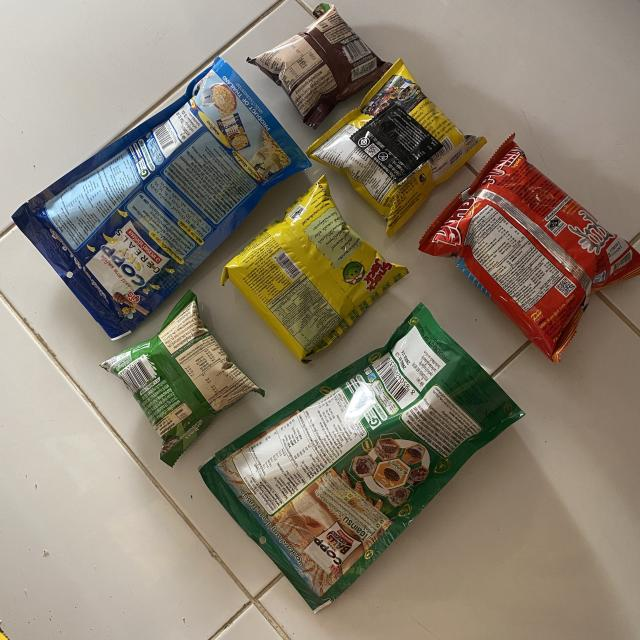plastik: (200, 304, 524, 611), (12, 59, 310, 332), (419, 135, 640, 362), (221, 176, 408, 360), (306, 59, 486, 236), (101, 291, 264, 466), (248, 4, 391, 129)
